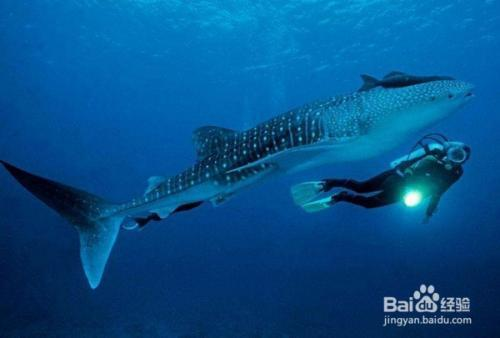fish: (1, 59, 476, 292)
